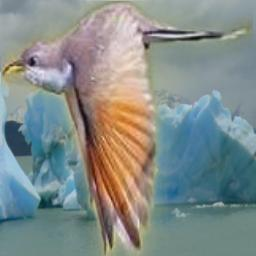Cuckoo: (1, 1, 253, 256)
